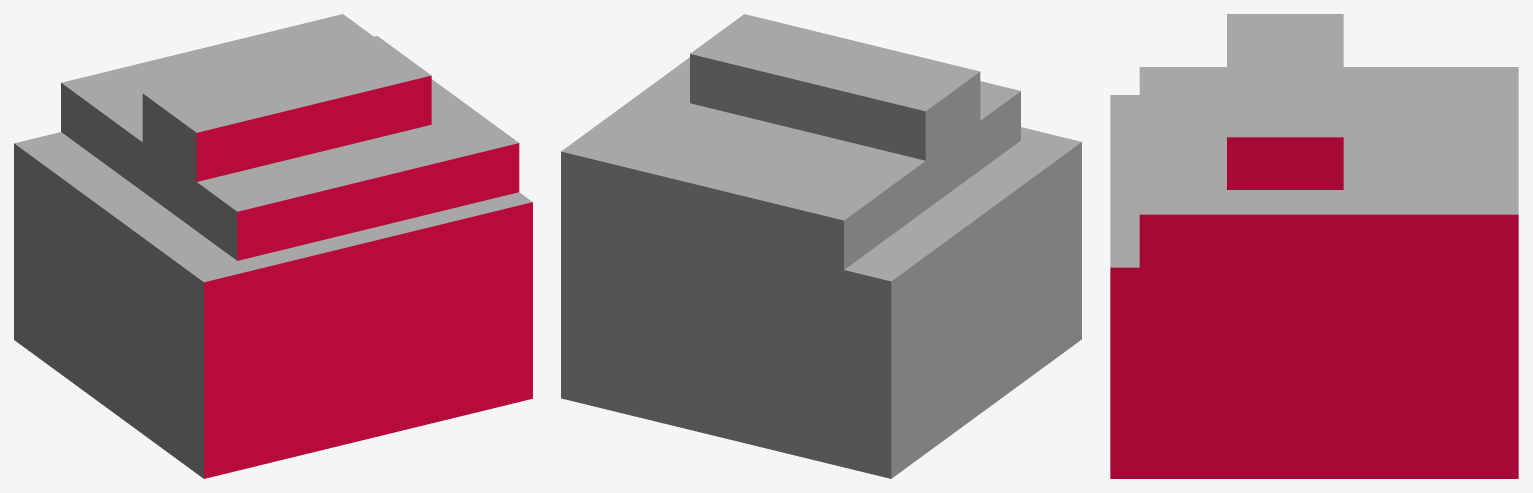
Rendered from stone_0.gltf.
3 views of the same model, side by side, from view 1: azimuth 30°, elevation 25°; view 2: azimuth 150°, elevation 25°; view 3: azimuth 270°, elevation 25° (orthographic). The views are drawn at different scales.
Parts seen in each view (by area): view 1: mesh; view 2: mesh; view 3: mesh.
Boxes of the visible parts, x1,y1,x2,y2 form: mesh: (14,14,532,478); mesh: (561,14,1081,478); mesh: (1110,14,1518,478).
Size of the model in its own units: 0.875 by 0.75 by 0.875.
Materials: 1 (1 with a texture image).
